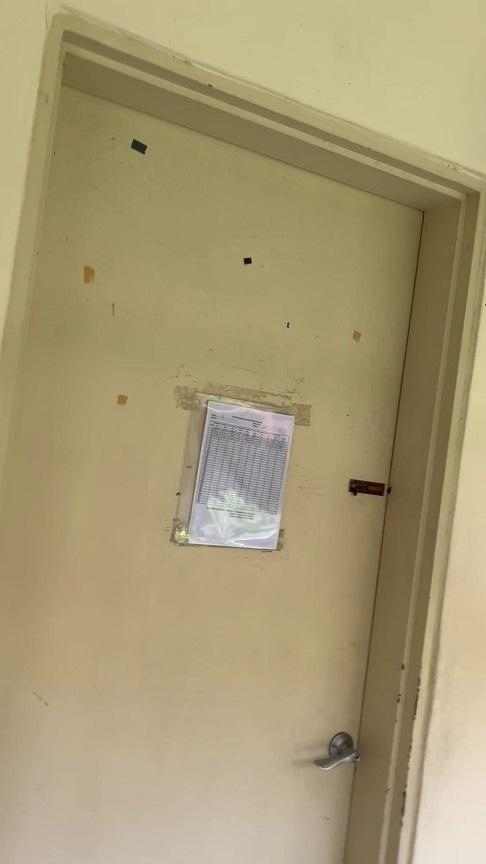door: (0, 10, 486, 864)
